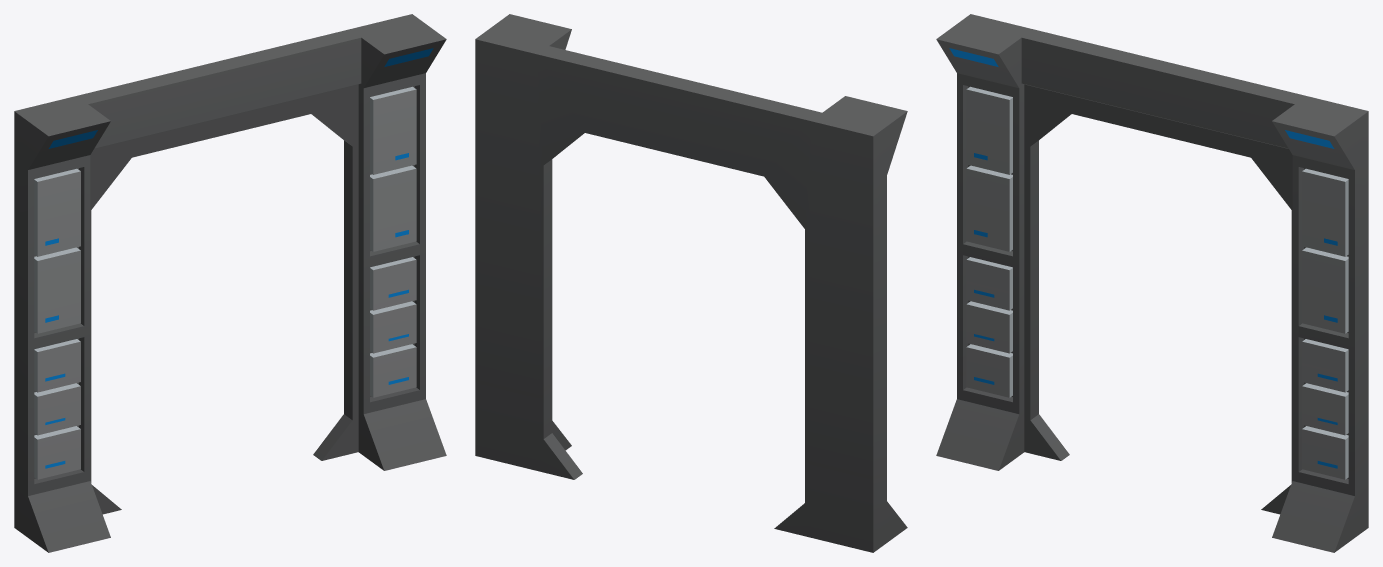
The model's file is Wall_type_B_051.fbx.
3 renders of one model, left to right at view 1: azimuth 30°, elevation 25°; view 2: azimuth 150°, elevation 25°; view 3: azimuth 330°, elevation 25°, orthographic.
Visible parts, largest first — view 1: Wall_type_B_051; view 2: Wall_type_B_051; view 3: Wall_type_B_051.
Boxes of the visible parts, left/top/right/bottom form: Wall_type_B_051: left=14, top=14, right=446, bottom=552; Wall_type_B_051: left=475, top=14, right=907, bottom=552; Wall_type_B_051: left=936, top=14, right=1368, bottom=552.
Size of the model in its own units: 400 by 60 by 400.
